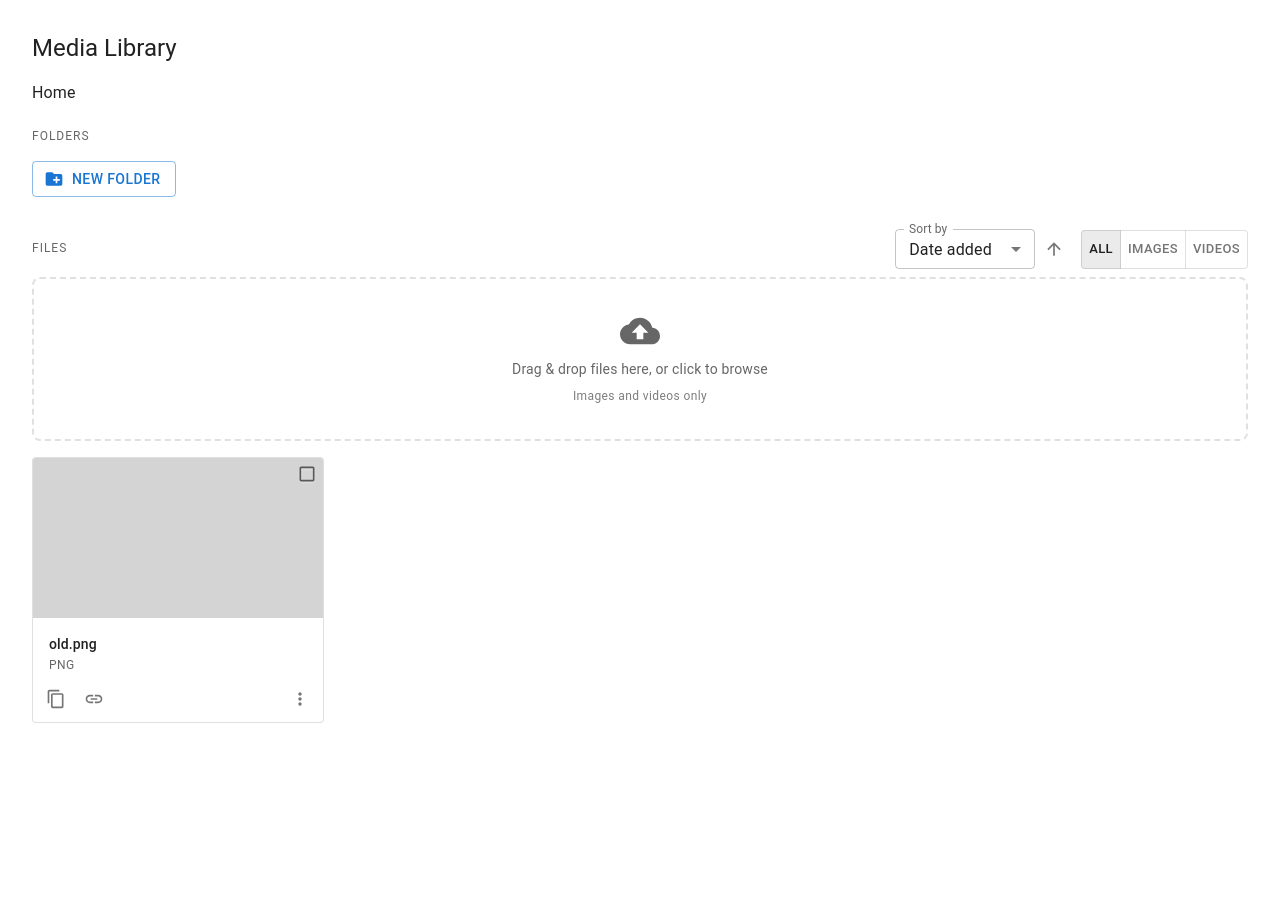
Test: MediaPage › renames a file in place from the more menu
Check: the heading "old.png" is shown, box x1=49 y1=636 x2=97 y2=652
Click the button named "More actions".
click(300, 699)  # box x1=285 y1=684 x2=315 y2=714
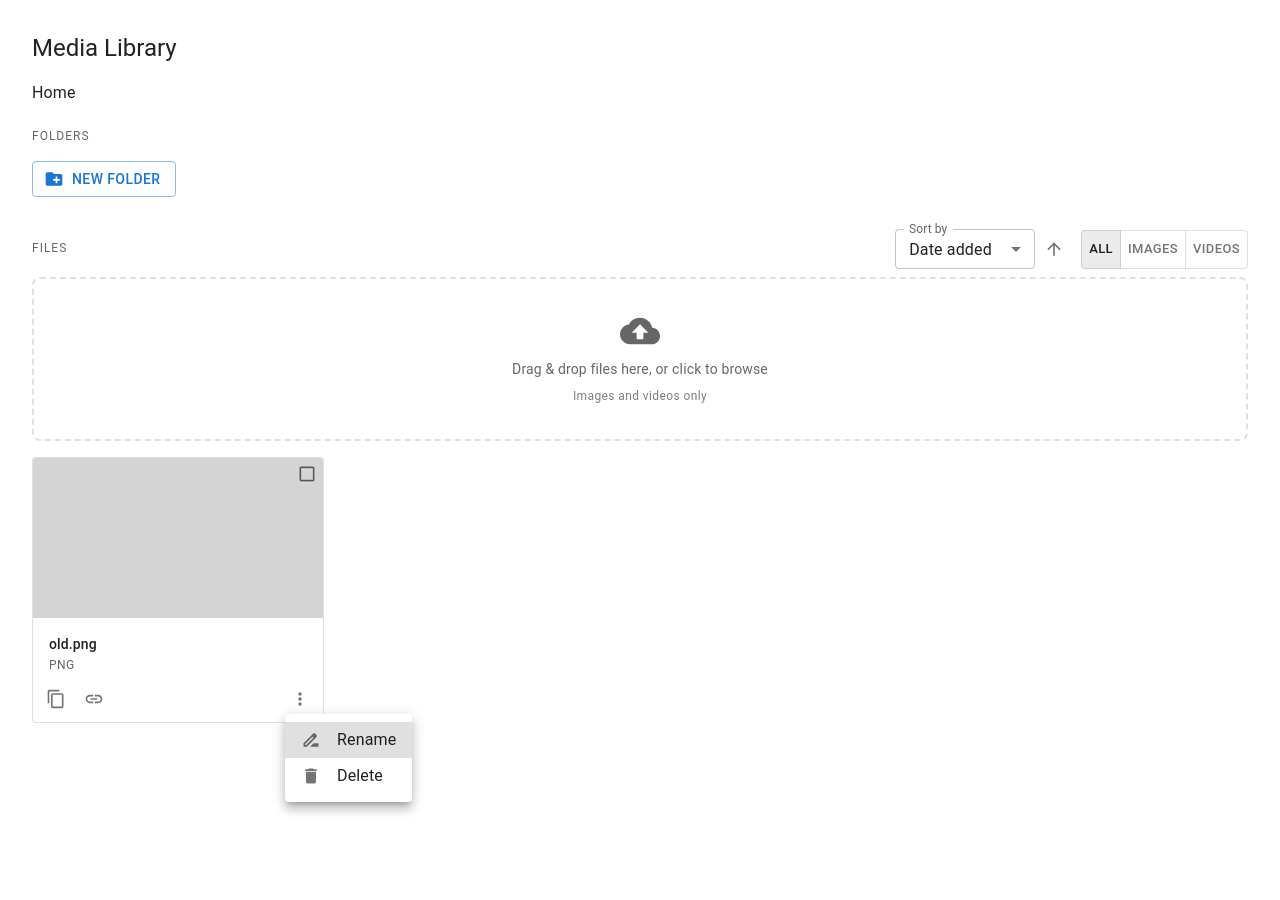
Click the menu item "Rename".
click(349, 740)  # box x1=285 y1=722 x2=412 y2=758
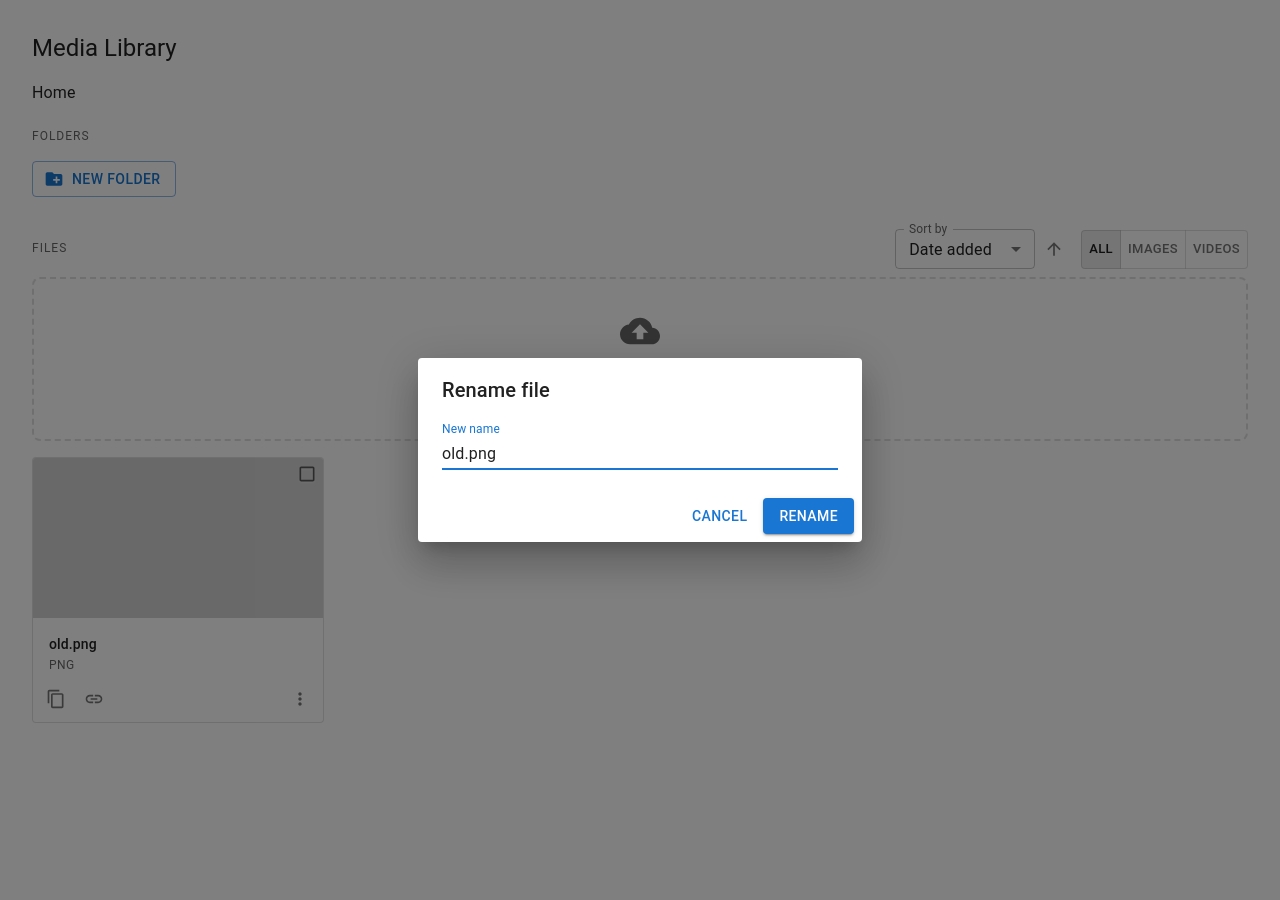
Replace the text in the field labelled "New name" with "new.png" at (640, 454), box x1=442 y1=438 x2=838 y2=470
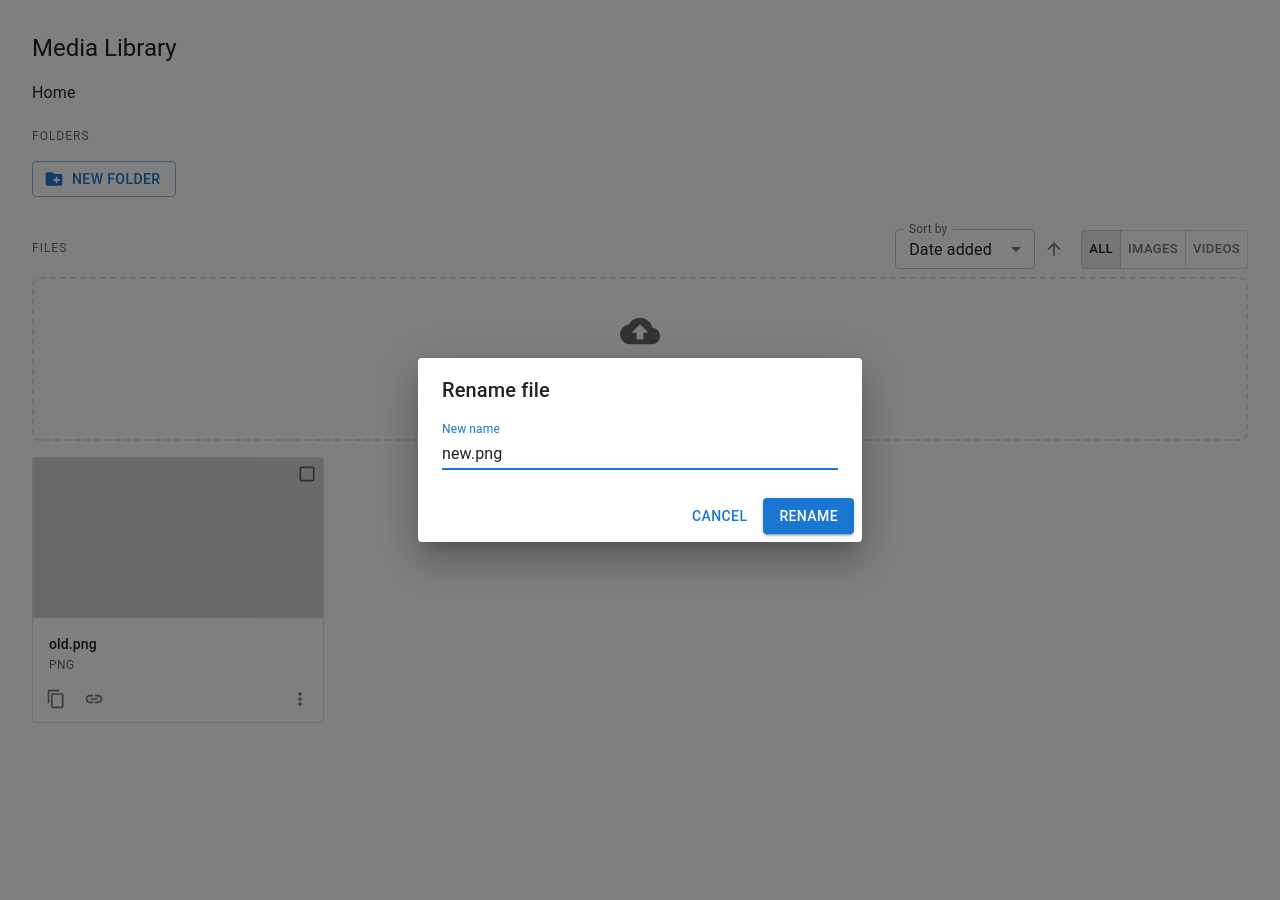
Click the button "Rename".
click(809, 516)  # box x1=763 y1=498 x2=854 y2=534
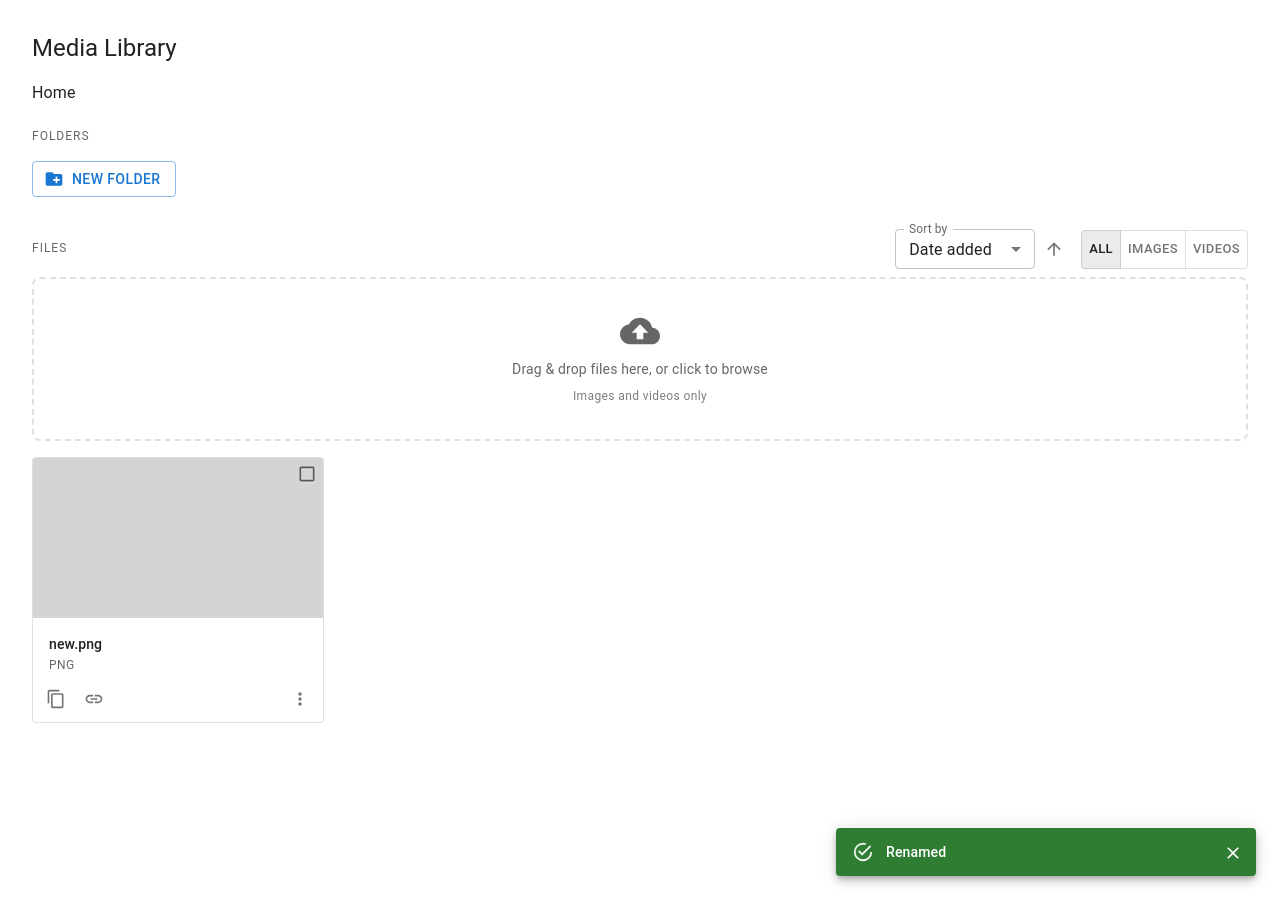
Check: the heading "new.png" is shown, box x1=49 y1=636 x2=102 y2=652
Check: the heading "old.png" is gone
